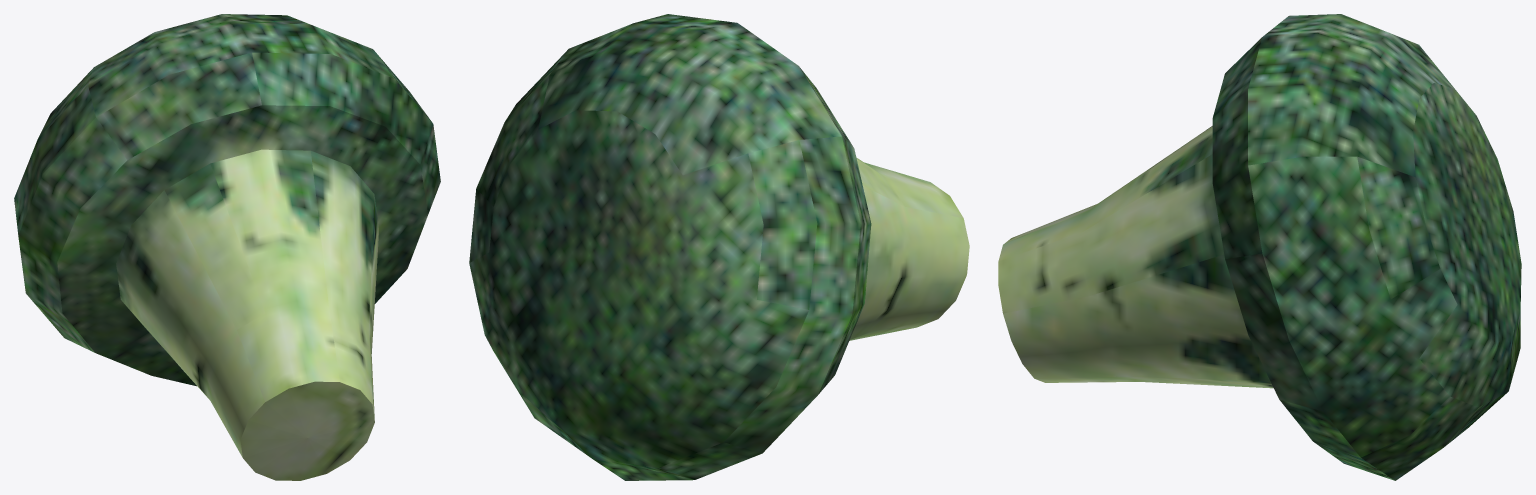
Rendered from SM_配餐室_水果蔬菜_13.fbx.
3 renders of one model, left to right at view 1: azimuth 30°, elevation 25°; view 2: azimuth 150°, elevation 25°; view 3: azimuth 270°, elevation 25°, orthographic. The views are drawn at different scales.
Parts seen in each view (by area): view 1: SM_配餐室_水果蔬菜_13; view 2: SM_配餐室_水果蔬菜_13; view 3: SM_配餐室_水果蔬菜_13.
Part boxes in pixels (x1,y1,x2,y2): SM_配餐室_水果蔬菜_13: [14, 14, 440, 480]; SM_配餐室_水果蔬菜_13: [469, 14, 969, 480]; SM_配餐室_水果蔬菜_13: [998, 14, 1521, 480].
Size of the model in its own units: 79.28 by 79.49 by 90.78.
